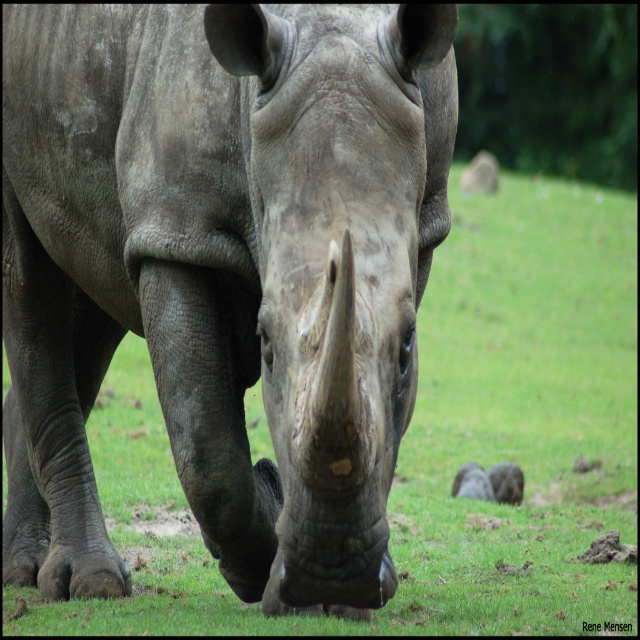Rhinoceros: (0, 0, 462, 612)
